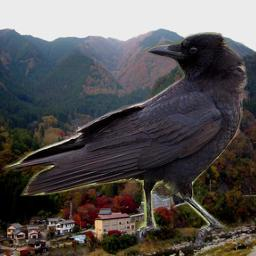Crow: (2, 32, 250, 245)
